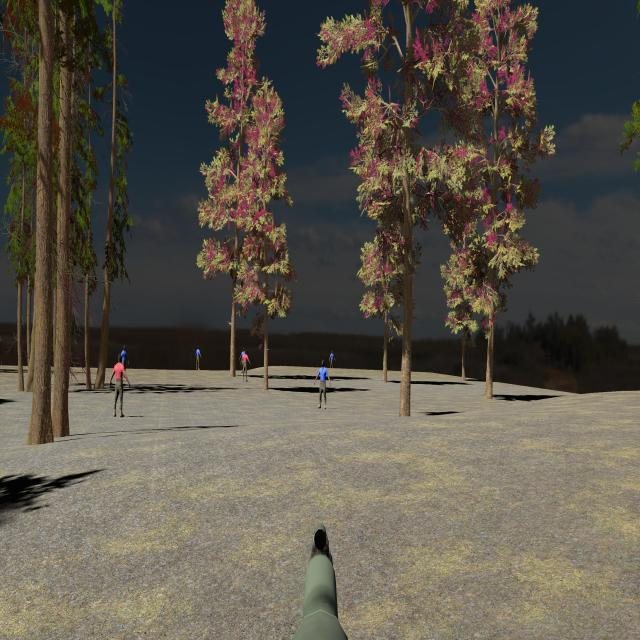Human: (110, 353, 131, 418), (314, 358, 331, 409)
